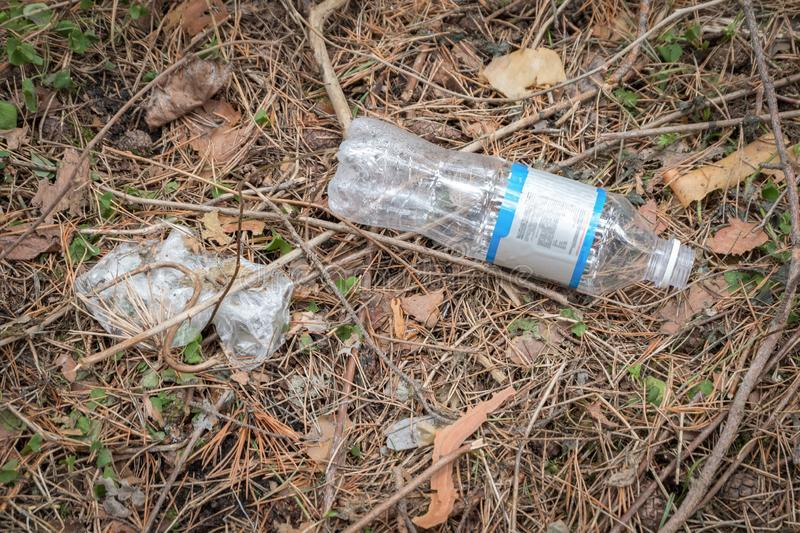bottle: (326, 101, 710, 319)
